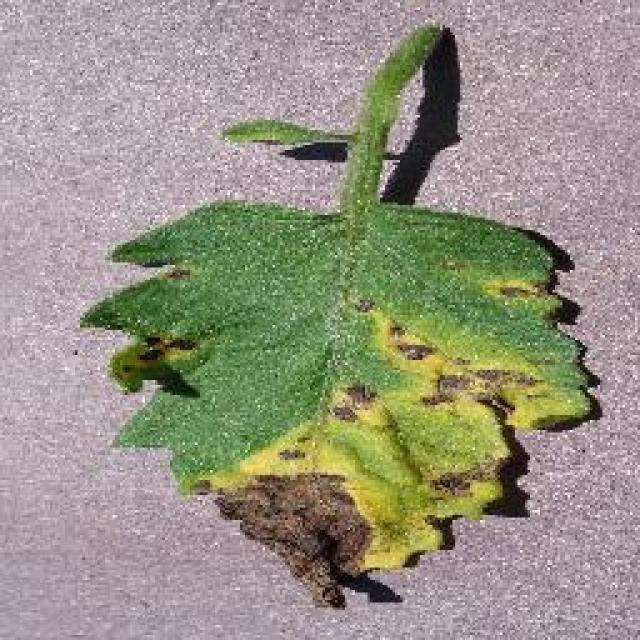Tomato___Septoria_leaf_spot: (80, 25, 590, 605)
